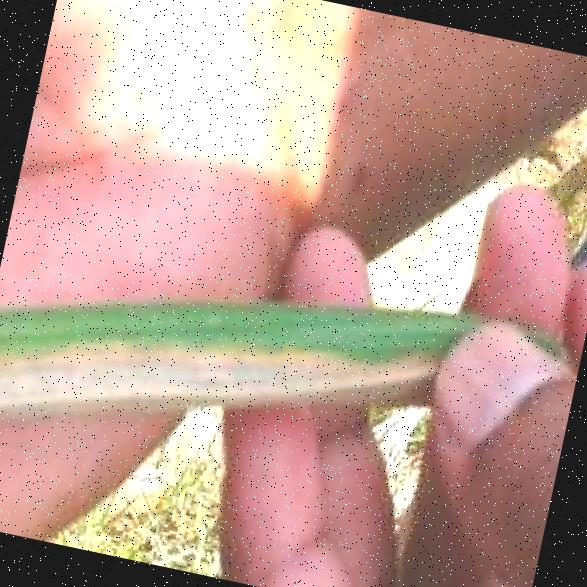Bacteria_Leaf_Blight: (29, 276, 484, 458)
